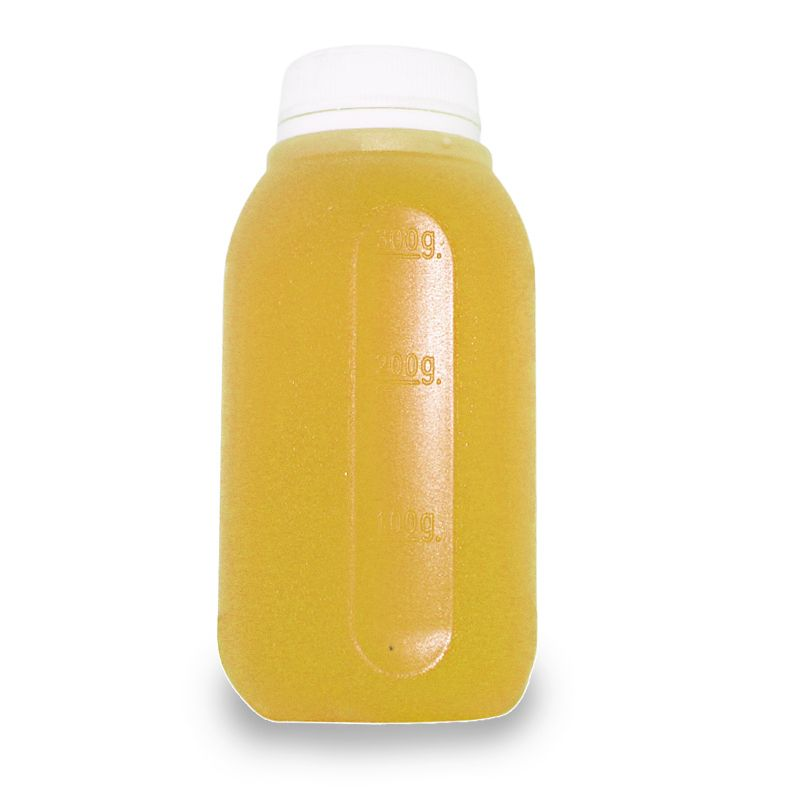plastic_bottle: (209, 41, 551, 744)
